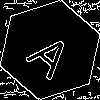A: (25, 25, 83, 82)
